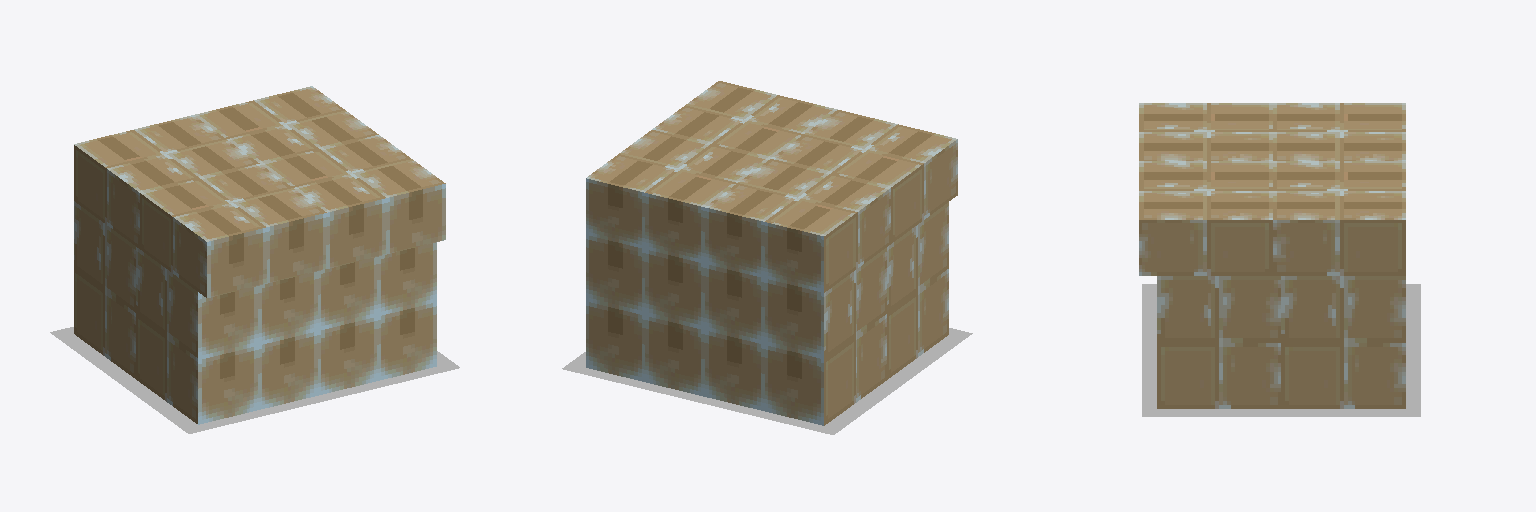
3 views of the same model, side by side, from view 1: azimuth 30°, elevation 25°; view 2: azimuth 150°, elevation 25°; view 3: azimuth 270°, elevation 25° (orthographic).
Parts seen in each view (by area): view 1: polygon0, polygon1, polygon2, polygon3; view 2: polygon0, polygon1, polygon2, polygon3; view 3: polygon2, polygon1, polygon3.
Boxes of the visible parts, x1=… form: polygon0: x1=198, y1=184, x2=445, y2=424; polygon1: x1=74, y1=86, x2=445, y2=241; polygon2: x1=74, y1=145, x2=206, y2=423; polygon3: x1=50, y1=327, x2=459, y2=433; polygon0: x1=586, y1=178, x2=823, y2=425; polygon1: x1=587, y1=81, x2=956, y2=235; polygon2: x1=824, y1=139, x2=957, y2=425; polygon3: x1=562, y1=328, x2=972, y2=434; polygon2: x1=1139, y1=220, x2=1405, y2=408; polygon1: x1=1139, y1=103, x2=1405, y2=219; polygon3: x1=1142, y1=284, x2=1420, y2=416.
Size of the model in its own units: 8.83 by 5.88 by 7.92.
Materials: 4 (3 with a texture image).